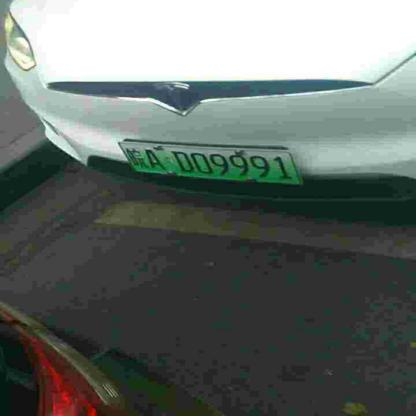lp: (118, 142, 302, 184)
